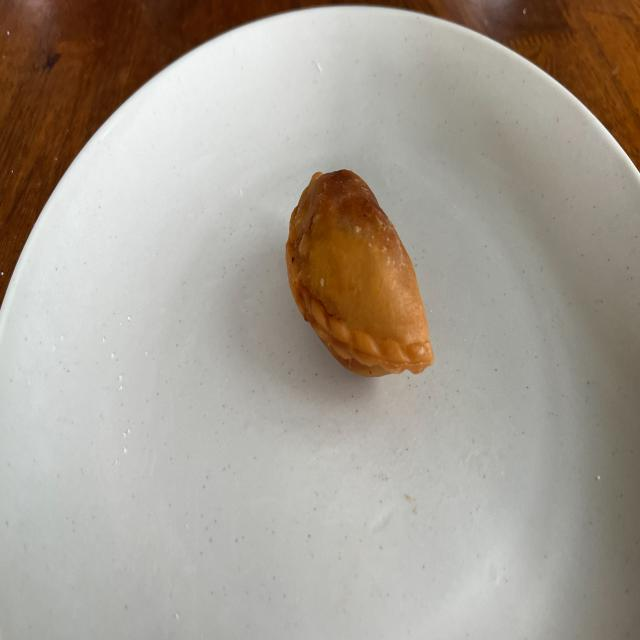karipap: (286, 169, 434, 376)
